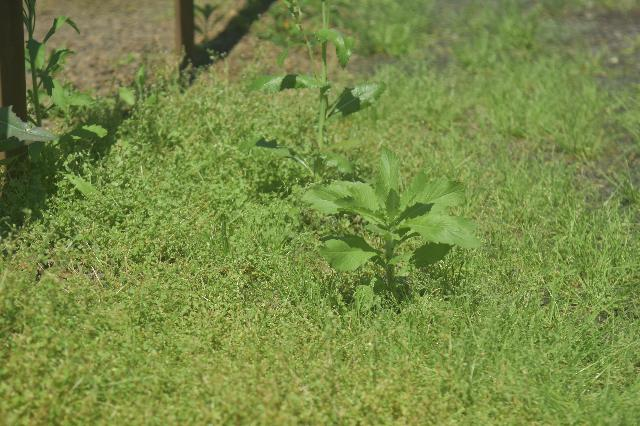MalezaMontesDelPlata: (482, 154, 640, 426), (243, 0, 384, 237), (2, 283, 224, 426), (304, 151, 481, 327), (59, 153, 247, 276), (0, 3, 91, 203), (86, 43, 171, 164)
